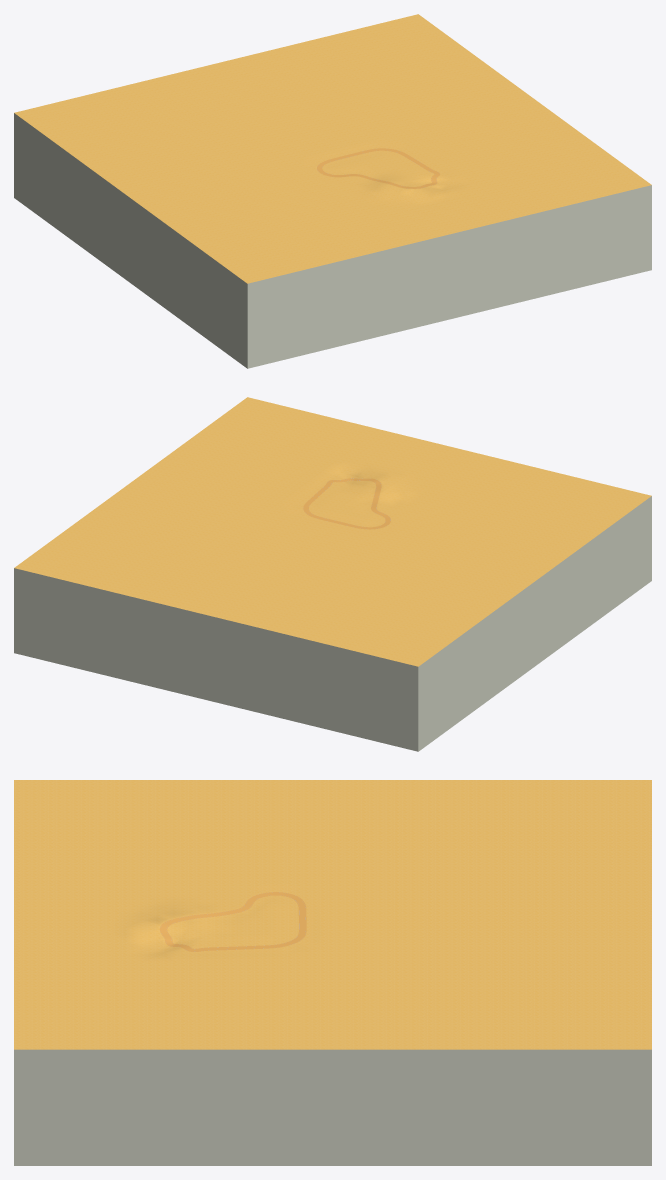
File: Ground.glb
The picture shows the model from 3 angles, top to bottom: view 1: azimuth 30°, elevation 25°; view 2: azimuth 150°, elevation 25°; view 3: azimuth 270°, elevation 25°; orthographic projection. The views are drawn at different scales.
Parts seen in each view (by area): view 1: Terrain-col; view 2: Terrain-col; view 3: Terrain-col.
Boxes of the visible parts, left/top/right/bottom form: Terrain-col: left=14, top=14, right=651, bottom=368; Terrain-col: left=14, top=397, right=651, bottom=751; Terrain-col: left=14, top=780, right=651, bottom=1165.
Size of the model in its own units: 1000 by 205 by 1000.
4 materials, 3 textured.
